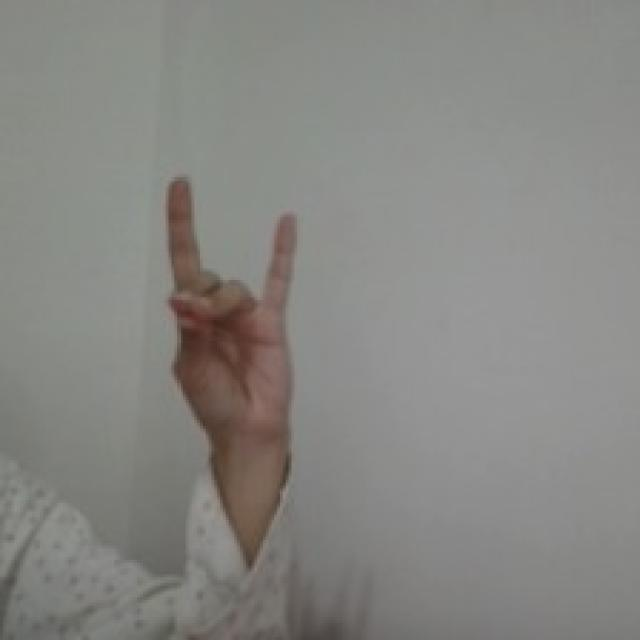Dog: (160, 170, 308, 444)
